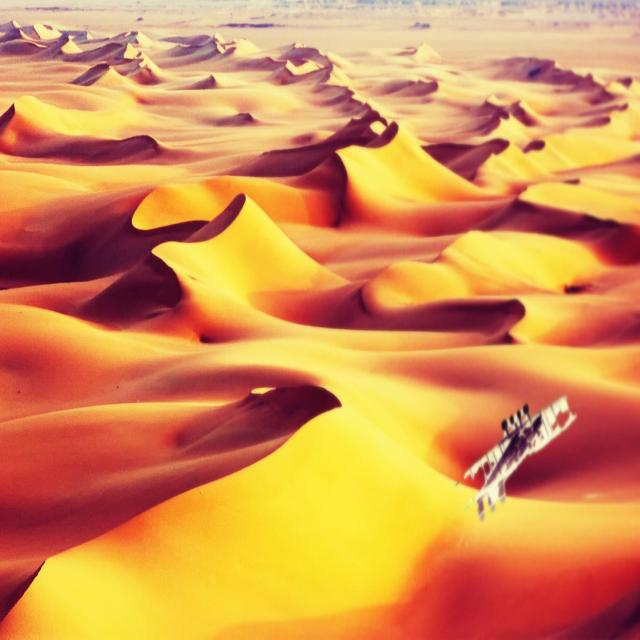airplane: (461, 393, 577, 521)
